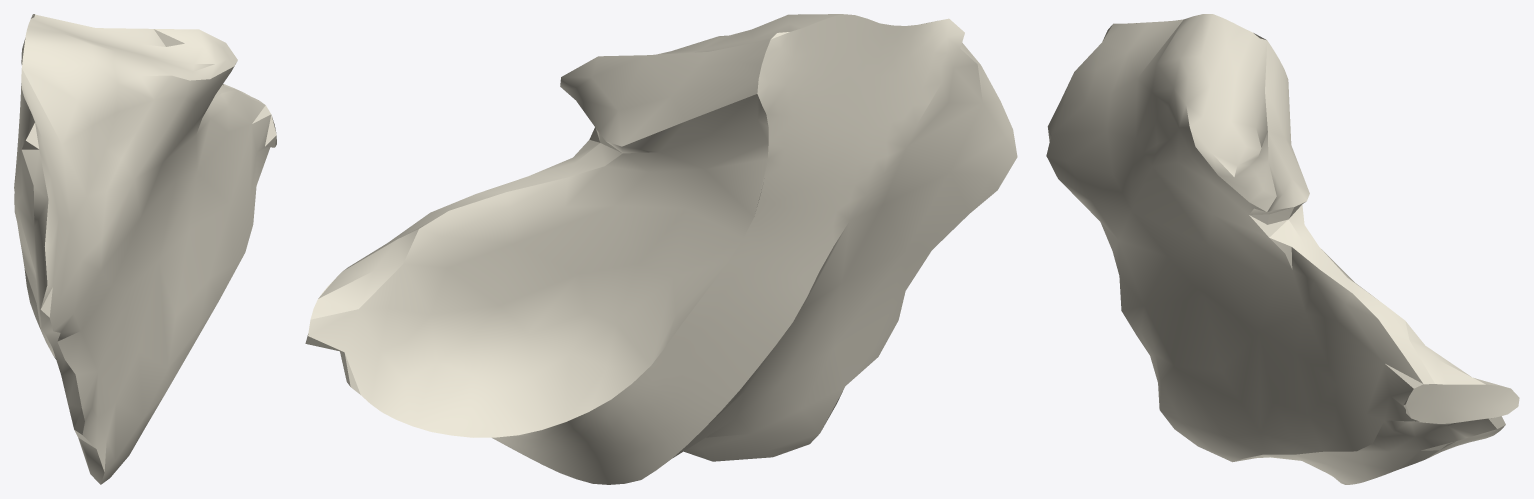
File: fma54680_mm2082m.glb
3 views of the same model, side by side, from view 1: azimuth 30°, elevation 25°; view 2: azimuth 150°, elevation 25°; view 3: azimuth 270°, elevation 25° (orthographic). The views are drawn at different scales.
Parts seen in each view (by area): view 1: FMA54680_MM2082M; view 2: FMA54680_MM2082M; view 3: FMA54680_MM2082M.
Boxes of the visible parts, x1,y1,x2,y2 form: FMA54680_MM2082M: (14,14,276,484); FMA54680_MM2082M: (305,14,1017,484); FMA54680_MM2082M: (1046,14,1519,484).
Size of the model in its own units: 0.0298 by 0.0295 by 0.0316.
